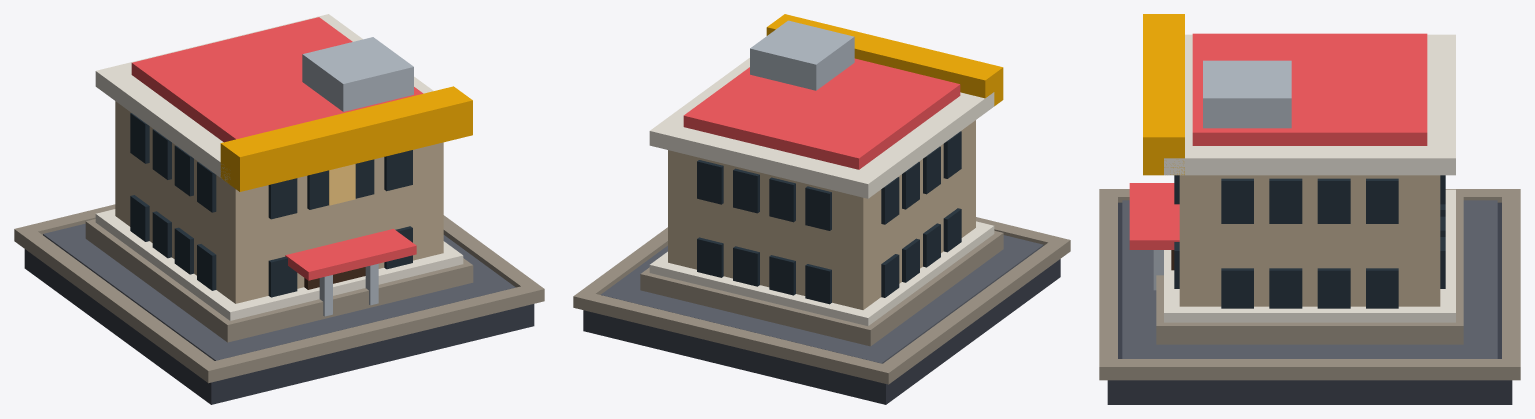
File: city.tax_bureau.glb
3 renders of one model, left to right at view 1: azimuth 30°, elevation 25°; view 2: azimuth 150°, elevation 25°; view 3: azimuth 270°, elevation 25°, orthographic. The views are drawn at different scales.
Visible parts, largest first — view 1: city.tax_bureau; view 2: city.tax_bureau; view 3: city.tax_bureau.
Part boxes in pixels (box(x1,y1,x2,y2)): city.tax_bureau: box(14, 14, 544, 404); city.tax_bureau: box(573, 14, 1070, 404); city.tax_bureau: box(1099, 14, 1520, 404).
Bounding box in the file's own units: 2.02 × 1.41 × 2.02.
